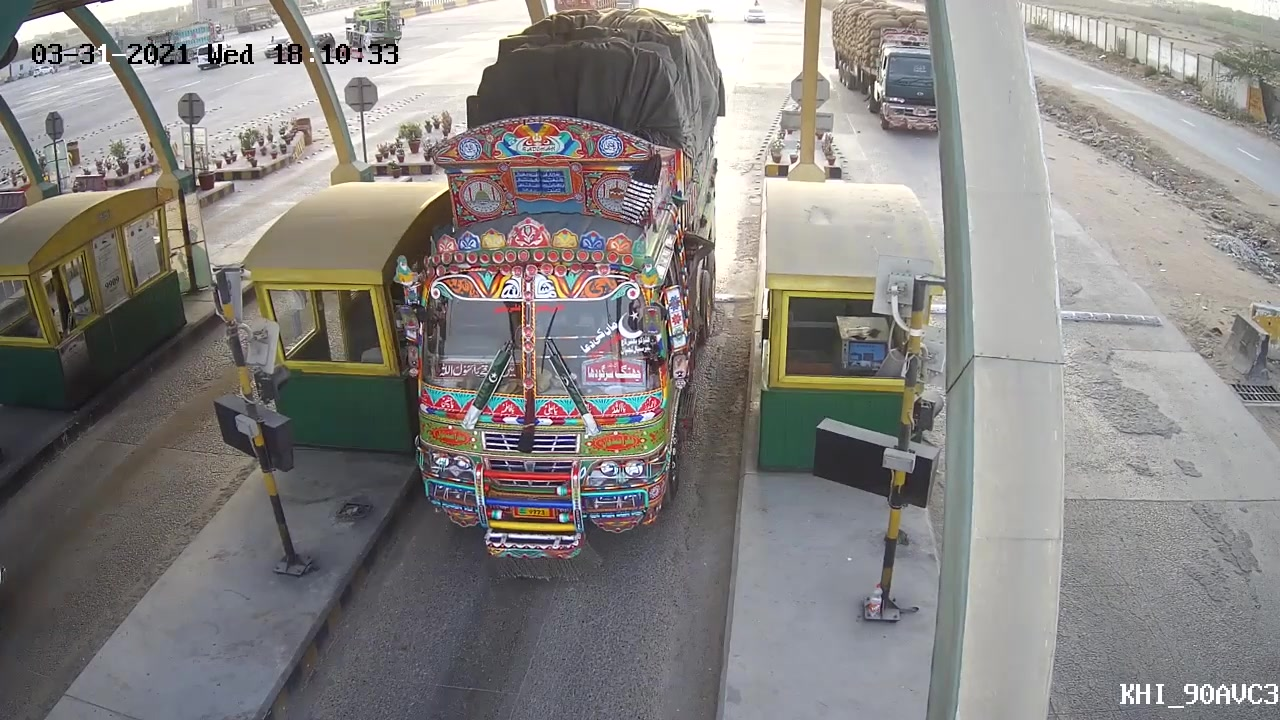F5: (397, 1, 735, 547)
